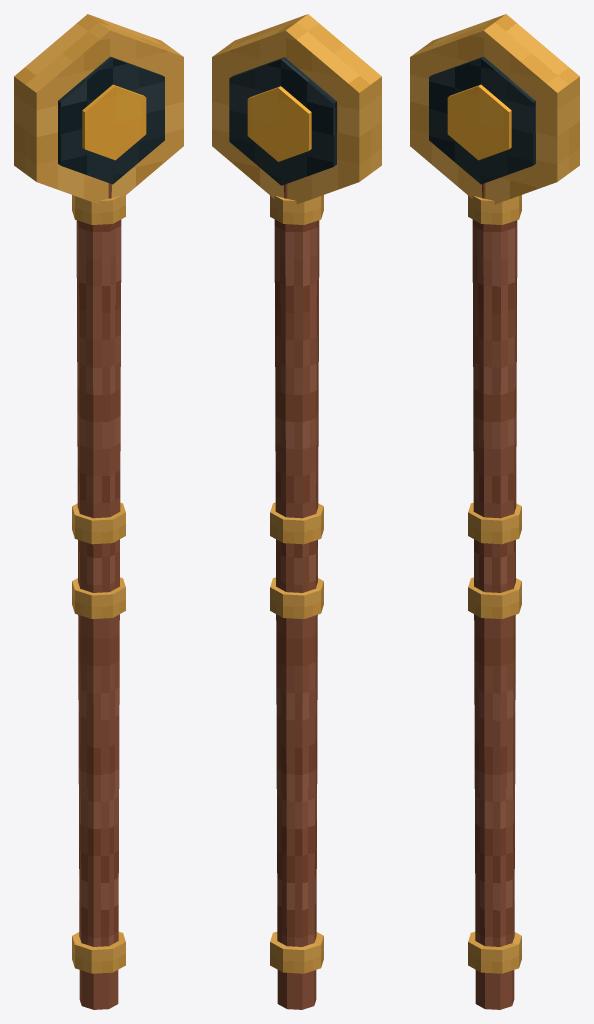
Rendered from proxy-staff.glb.
3 views of the same model, side by side, from view 1: azimuth 30°, elevation 25°; view 2: azimuth 150°, elevation 25°; view 3: azimuth 330°, elevation 25° (orthographic).
Visible parts, largest first — view 1: SF_Proxy_Staff.001; view 2: SF_Proxy_Staff.001; view 3: SF_Proxy_Staff.001.
Boxes of the visible parts, box(x1,y1,x2,y2) form: SF_Proxy_Staff.001: box(14, 14, 183, 1009); SF_Proxy_Staff.001: box(212, 14, 381, 1009); SF_Proxy_Staff.001: box(410, 14, 579, 1009).
Bounding box in the file's own units: 0.1957 × 1.24 × 0.081.
1 material, 1 textured.
